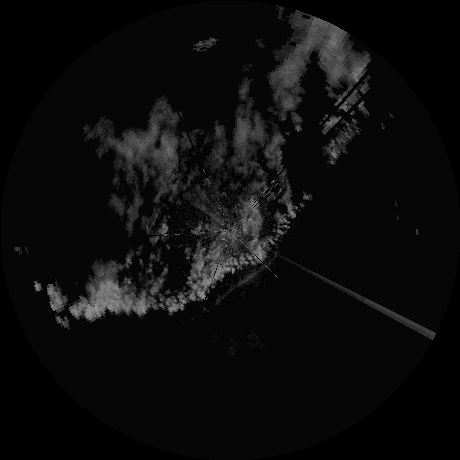frontgust: (217, 253, 277, 304)
